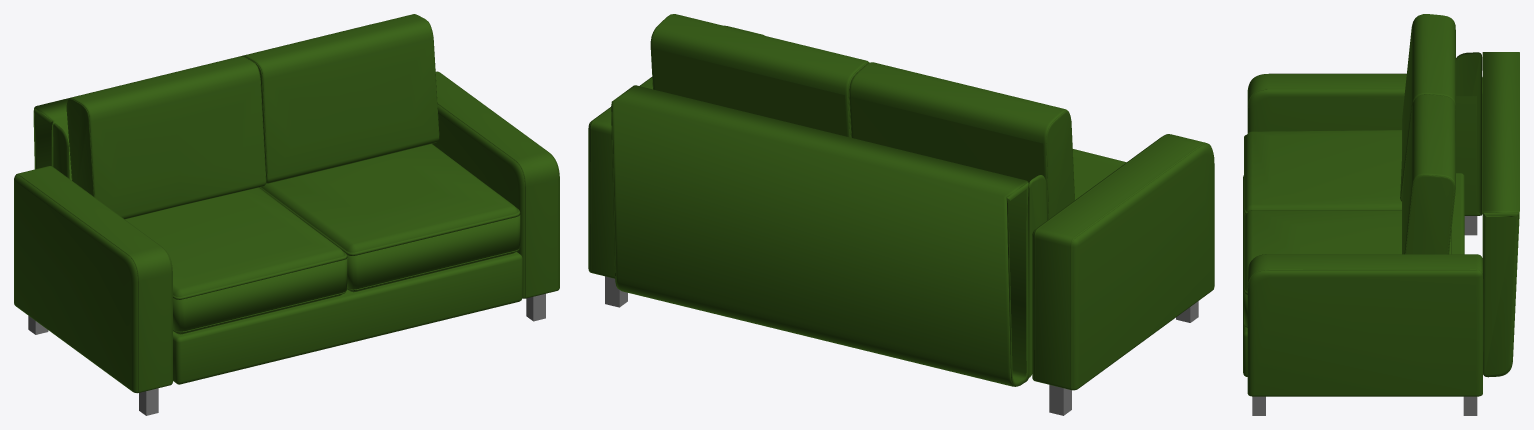
File: green_sofa.FBX
The picture shows the model from 3 angles, left to right: view 1: azimuth 30°, elevation 25°; view 2: azimuth 150°, elevation 25°; view 3: azimuth 270°, elevation 25°; orthographic projection. The views are drawn at different scales.
Visible parts, largest first — view 1: right_v, left_v, ChamferBox001, left, ChamferBox004, ChamferBox003, Box004, Box029, right_p, left_p, right, Box027 (+2 smaller); view 2: Box026, left, left_v, right_v, Box004, Box029, Box027, Object011, ChamferBox003, Box017; view 3: right, ChamferBox003, left, ChamferBox004, Box026, Object013, right_v, left_v, Box029, Box024, Box004, Object011 (+5 smaller).
Boxes of the visible parts, <box> form: right_v: <box>242,14,439,183</box>; left_v: <box>66,56,266,219</box>; ChamferBox001: <box>173,251,522,384</box>; left: <box>14,167,172,392</box>; ChamferBox004: <box>261,144,518,292</box>; ChamferBox003: <box>125,188,345,334</box>; Box004: <box>16,166,171,392</box>; Box029: <box>435,71,558,298</box>; right_p: <box>259,144,520,290</box>; left_p: <box>173,187,347,333</box>; right: <box>432,74,559,298</box>; Box027: <box>67,99,93,196</box>; Box026: <box>611,85,1029,386</box>; left: <box>1032,137,1214,390</box>; left_v: <box>849,62,1074,219</box>; right_v: <box>650,14,869,137</box>; Box004: <box>1033,134,1211,390</box>; Box029: <box>589,25,764,278</box>; Box027: <box>1046,112,1074,218</box>; Object011: <box>1029,175,1047,377</box>; ChamferBox003: <box>1072,149,1126,199</box>; Box017: <box>1049,385,1071,415</box>; right: <box>1248,270,1482,396</box>; ChamferBox003: <box>1245,129,1401,211</box>; left: <box>1248,89,1482,215</box>; ChamferBox004: <box>1245,210,1449,291</box>; Box026: <box>1482,52,1519,377</box>; Object013: <box>1483,213,1518,376</box>; right_v: <box>1402,94,1455,254</box>; left_v: <box>1400,14,1455,199</box>; Box029: <box>1247,254,1482,394</box>; Box024: <box>1405,175,1454,254</box>; Box004: <box>1247,73,1482,133</box>; Object011: <box>1456,52,1482,215</box>.
Bounding box in the file's own units: 1702 × 911 × 999.
